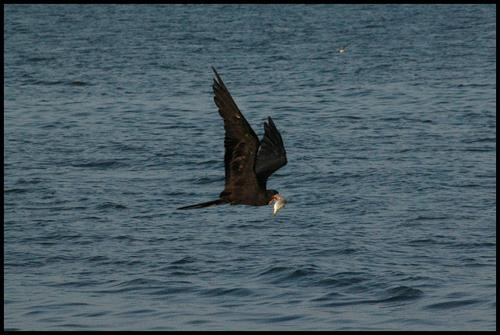bird: (190, 65, 298, 213)
